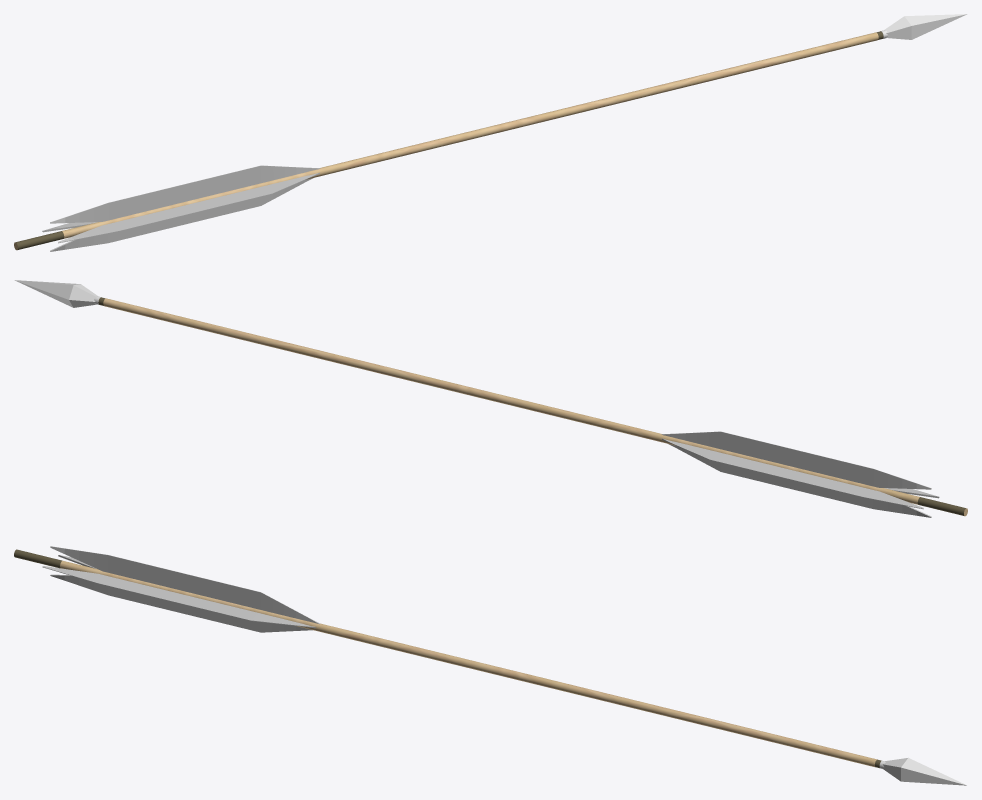
Rendered from Arrow.fbx.
3 renders of one model, top to bottom at view 1: azimuth 30°, elevation 25°; view 2: azimuth 150°, elevation 25°; view 3: azimuth 330°, elevation 25°, orthographic.
Parts seen in each view (by area): view 1: 矢; view 2: 矢; view 3: 矢.
Part boxes in pixels (box(x1,y1,x2,y2)): 矢: box(14, 14, 967, 251); 矢: box(14, 280, 967, 517); 矢: box(14, 546, 966, 785).
Bounding box in the file's own units: 131 × 5.27 × 5.27.
